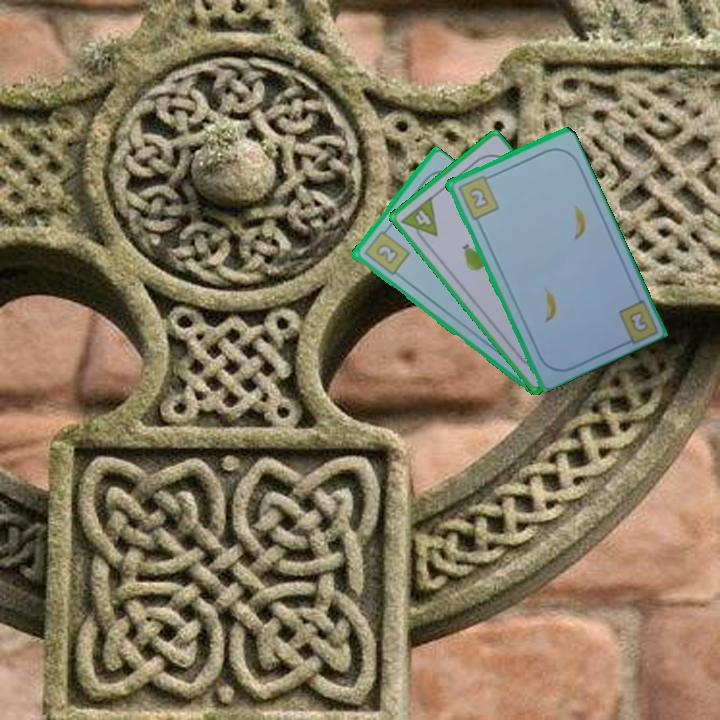2b: (360, 223, 412, 278), (454, 171, 501, 222), (625, 307, 651, 335)
4p: (397, 193, 441, 248)
